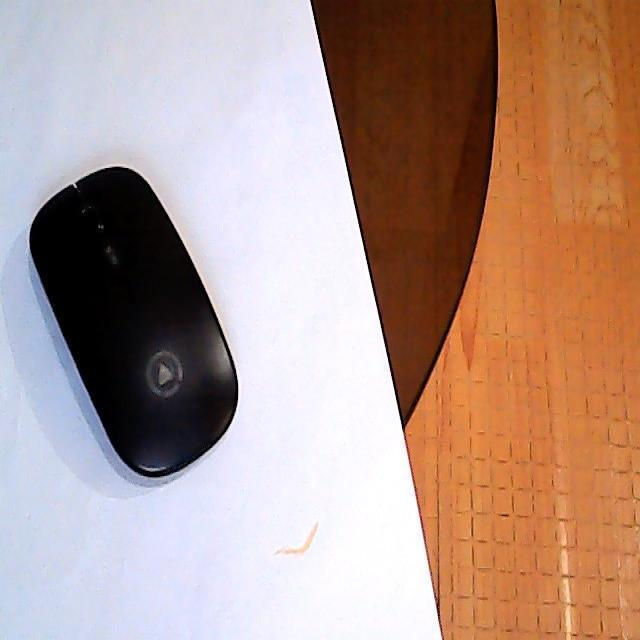Mouse: (29, 163, 242, 482)
